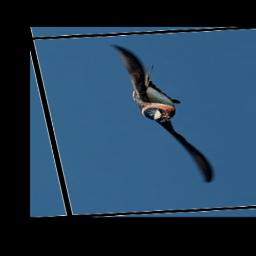Swallow: (105, 42, 215, 188)
